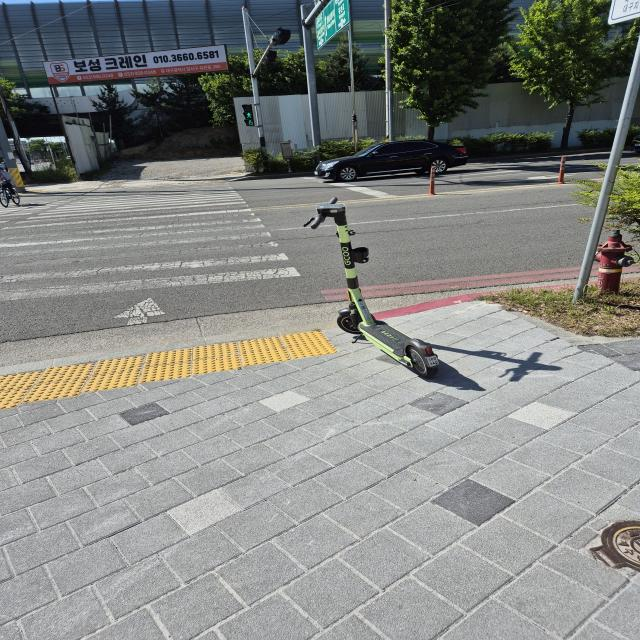kick-board: (305, 198, 438, 378)
lane: (0, 331, 337, 409)
road: (0, 179, 363, 355), (350, 188, 578, 284)
sidewalk: (2, 301, 638, 640)
verge: (0, 301, 345, 375), (373, 290, 470, 311)
